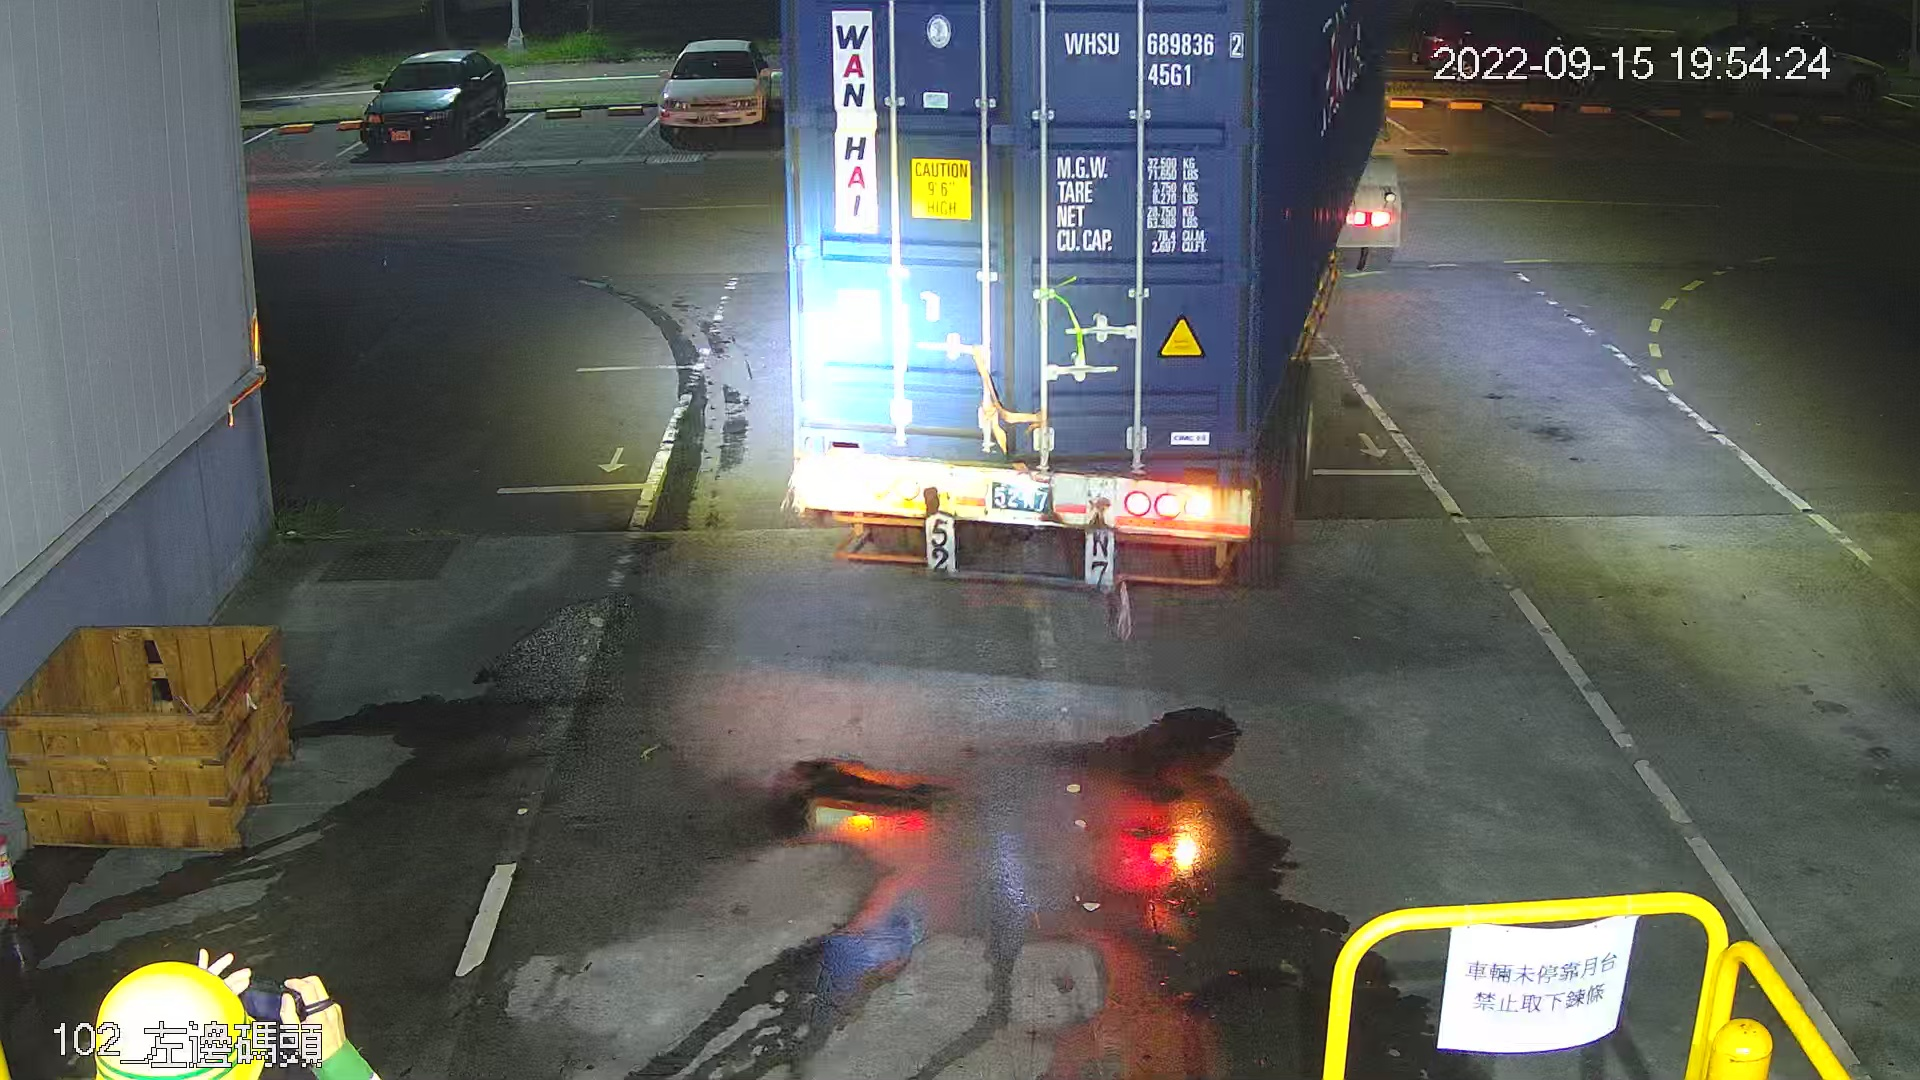container: (1054, 22, 1253, 95)
